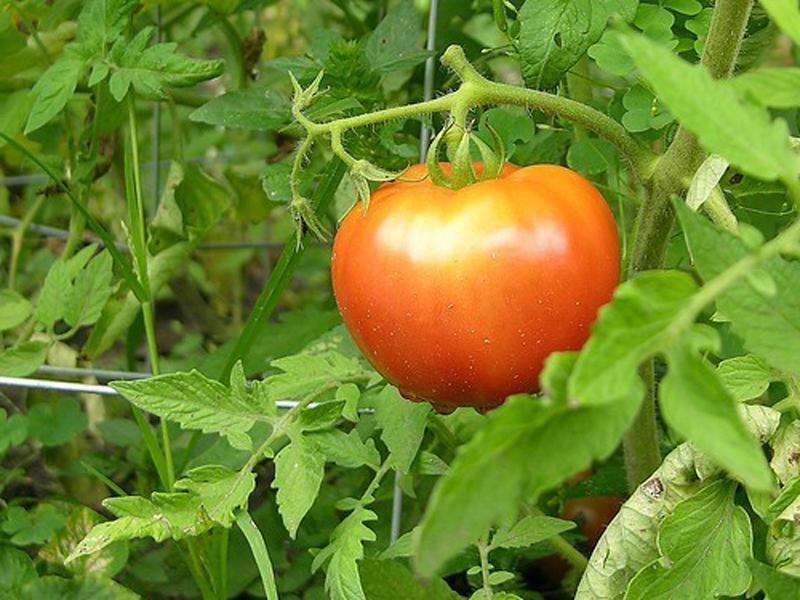Tomato: (333, 159, 618, 403)
